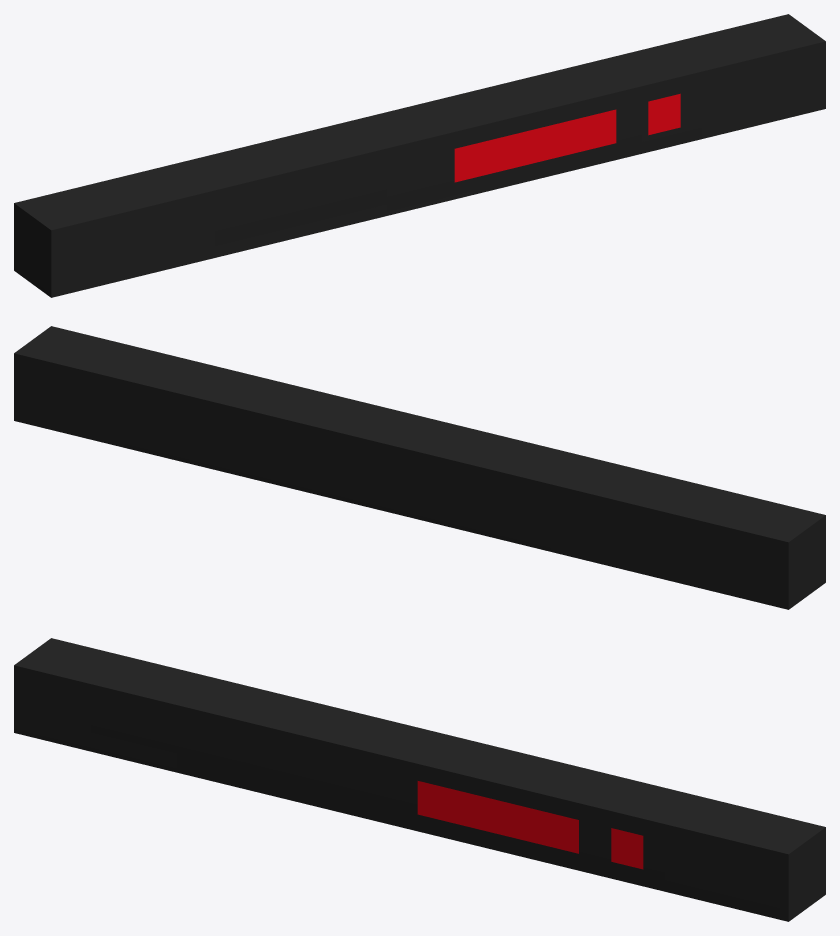
File: gun2.glb
The picture shows the model from 3 angles, top to bottom: view 1: azimuth 30°, elevation 25°; view 2: azimuth 150°, elevation 25°; view 3: azimuth 330°, elevation 25°; orthographic projection.
Visible parts, largest first — view 1: Cube; view 2: Cube; view 3: Cube.
Part boxes in pixels (x1=…): Cube: x1=14, y1=14, x2=825, y2=297; Cube: x1=14, y1=326, x2=825, y2=609; Cube: x1=14, y1=638, x2=825, y2=921.
Size of the model in its own units: 24 by 2 by 2.
1 material, 1 textured.
